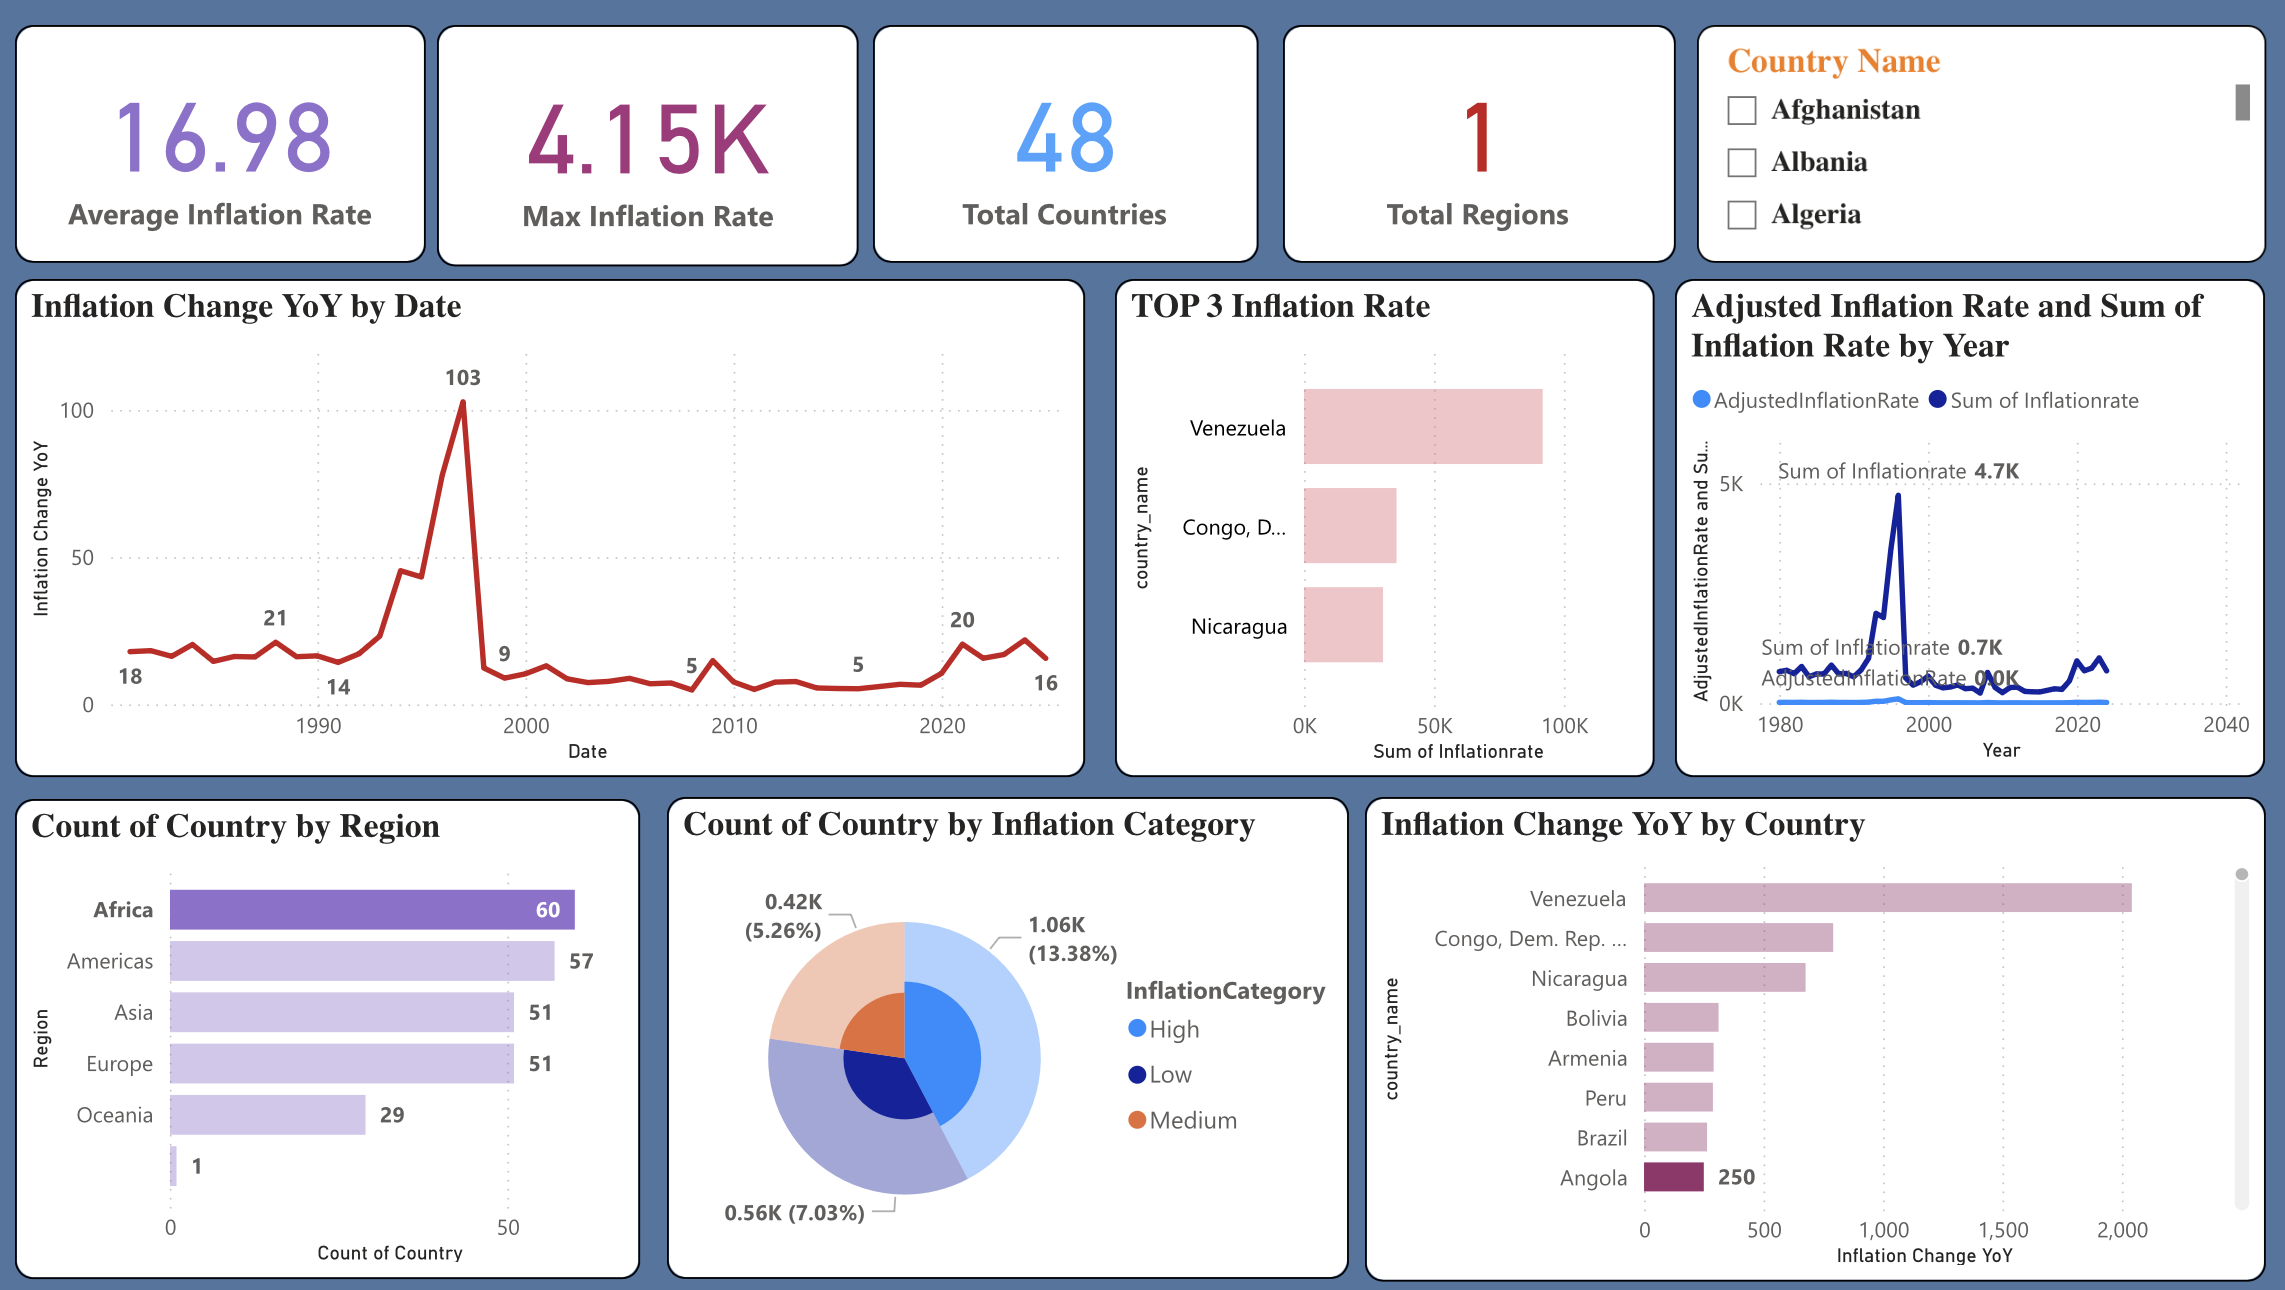

The dashboard page shown, as its layout file describes it:
{"tool":"powerbi","page":{"name":"Page 1","canvas":[1280,720],"ordinal":0},"visuals":[{"type":"card","fields":{"Values":["global_inflation_data.Average Inflation Rate"]},"box":[10,16,228,132],"z":0},{"type":"card","fields":{"Values":["global_inflation_data.Max Inflation Rate"]},"box":[244,16,234,134],"z":1000},{"type":"card","fields":{"Values":["global_inflation_data.Total Countries"]},"box":[486,16,214,132],"z":2000},{"type":"lineChart","fields":{"Category":["Date.Date"],"Y":["global_inflation_data.Inflation Change YoY"]},"box":[10.2,156.8,594.1,276.7],"z":3000},{"type":"clusteredBarChart","fields":{"Category":["continents2.Region"],"Y":["CountNonNull(continents2.Country)"]},"box":[10.2,444.9,346.8,266.5],"z":4000},{"type":"pieChart","title":"Count of Country by Inflation Category","fields":{"Y":["CountNonNull(global_inflation_data.country_name)"],"Category":["global_inflation_data.InflationCategory"]},"box":[372.3,443.7,378.6,267.7],"z":5000},{"type":"slicer","fields":{"Values":["global_inflation_data.country_name"]},"box":[944,16,316,132],"z":6000},{"type":"clusteredBarChart","title":"Inflation Change YoY by Country","fields":{"Y":["global_inflation_data.Inflation Change YoY"],"Category":["global_inflation_data.country_name"]},"box":[759.8,443.7,499.8,269],"z":7000},{"type":"lineChart","title":"Adjusted Inflation Rate and Sum of Inflation Rate by Year","fields":{"Category":["Date.Year"],"Y":["global_inflation_data.AdjustedInflationRate","Sum(global_inflation_data.Inflationrate)"]},"box":[932,156.8,327.6,276.7],"z":8000},{"type":"clusteredBarChart","title":"TOP 3 Inflation Rate","fields":{"Category":["global_inflation_data.country_name"],"Y":["Sum(global_inflation_data.Inflationrate)"]},"box":[620.9,156.8,299.6,276.7],"z":9000},{"type":"card","fields":{"Values":["continents2.Total Regions"]},"box":[714,16,218,132],"z":10000}]}

Visuals, with their boxes in screenshot pixels (x1, y1, x2, y2), scaled from the page's 1280x720 canvas onto the 2285x1290 screenshot:
card - global_inflation_data.Average Inflation Rate: [18,29,425,265]
card - global_inflation_data.Max Inflation Rate: [436,29,853,269]
card - global_inflation_data.Total Countries: [868,29,1250,265]
lineChart - Date.Date x global_inflation_data.Inflation Change YoY: [18,281,1079,777]
clusteredBarChart - continents2.Region x CountNonNull(continents2.Country): [18,797,637,1275]
"Count of Country by Inflation Category" pieChart: [665,795,1340,1275]
slicer - global_inflation_data.country_name: [1685,29,2249,265]
"Inflation Change YoY by Country" clusteredBarChart: [1356,795,2249,1277]
"Adjusted Inflation Rate and Sum of Inflation Rate by Year" lineChart: [1664,281,2249,777]
"TOP 3 Inflation Rate" clusteredBarChart: [1108,281,1643,777]
card - continents2.Total Regions: [1275,29,1664,265]
